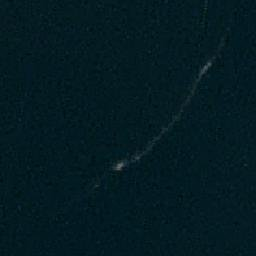debris: (195, 55, 218, 80), (108, 159, 140, 172), (154, 127, 170, 142), (184, 84, 197, 102), (171, 107, 184, 121), (139, 145, 151, 156)
